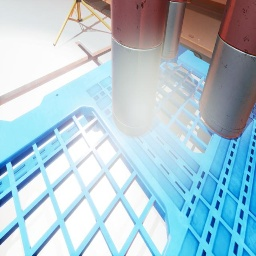NitrogenTank ,: (110, 0, 168, 137), (199, 0, 256, 138), (161, 0, 187, 59)
